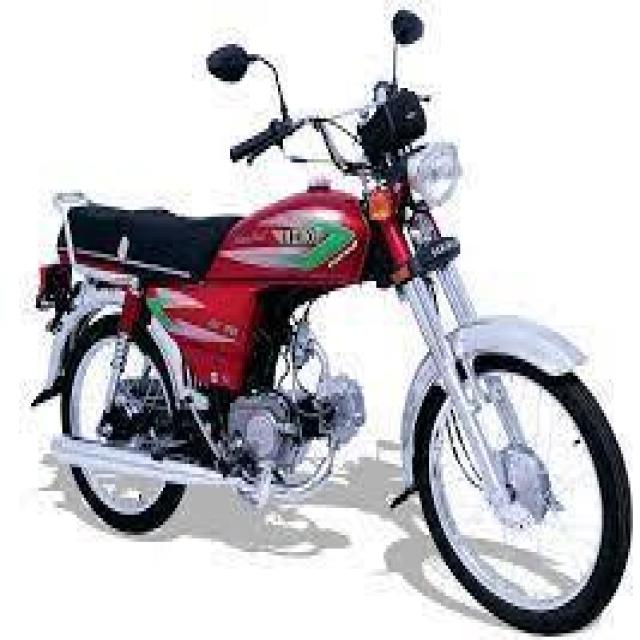motorcycle: (24, 2, 630, 628)
